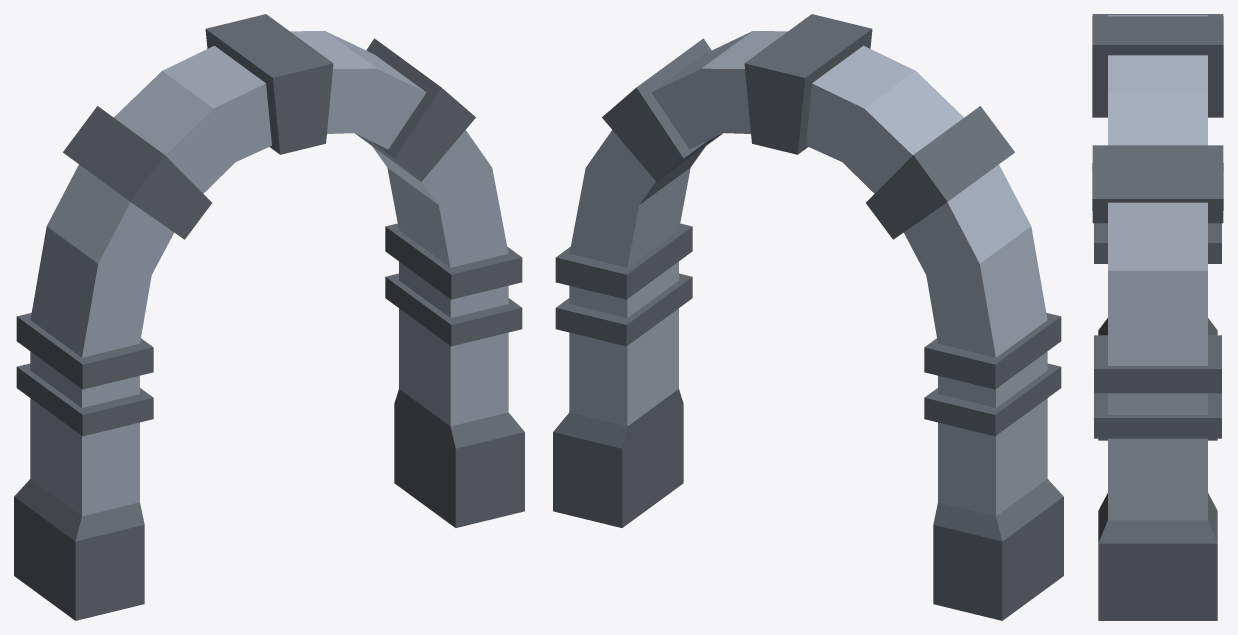
File: WallArchWide.fbx
3 renders of one model, left to right at view 1: azimuth 30°, elevation 25°; view 2: azimuth 150°, elevation 25°; view 3: azimuth 270°, elevation 25°, orthographic. The views are drawn at different scales.
Parts seen in each view (by area): view 1: WallArchWide; view 2: WallArchWide; view 3: WallArchWide.
Part boxes in pixels (x1=…): WallArchWide: x1=14, y1=14, x2=524, y2=620; WallArchWide: x1=553, y1=14, x2=1063, y2=620; WallArchWide: x1=1092, y1=14, x2=1223, y2=620.
Size of the model in its own units: 302 by 320 by 78.76.
